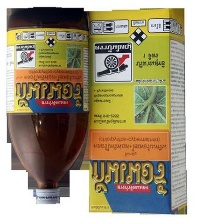carton: (86, 7, 191, 218)
insecticide: (1, 4, 92, 208)
